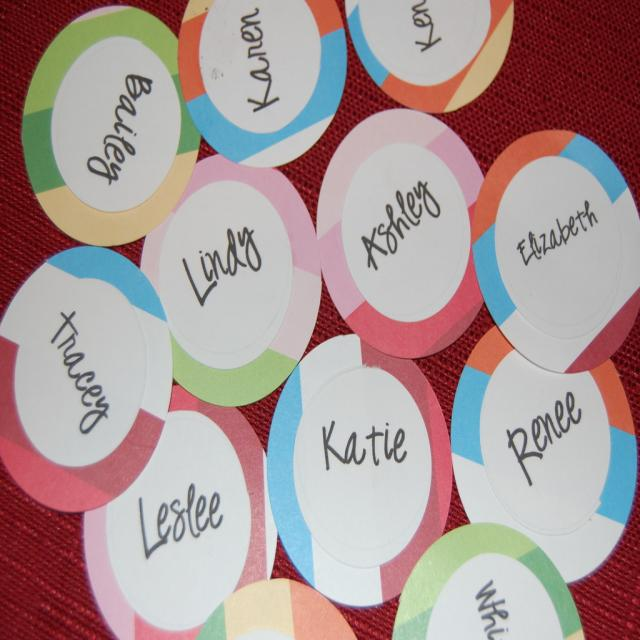non-organic waste: (306, 75, 498, 382), (267, 329, 451, 611), (139, 154, 330, 421), (480, 131, 640, 359)
